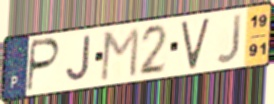2: (138, 23, 171, 76)
J: (214, 12, 244, 66), (64, 34, 92, 84)
M: (98, 25, 141, 83)
P: (25, 36, 62, 94)
V: (180, 15, 212, 71)
